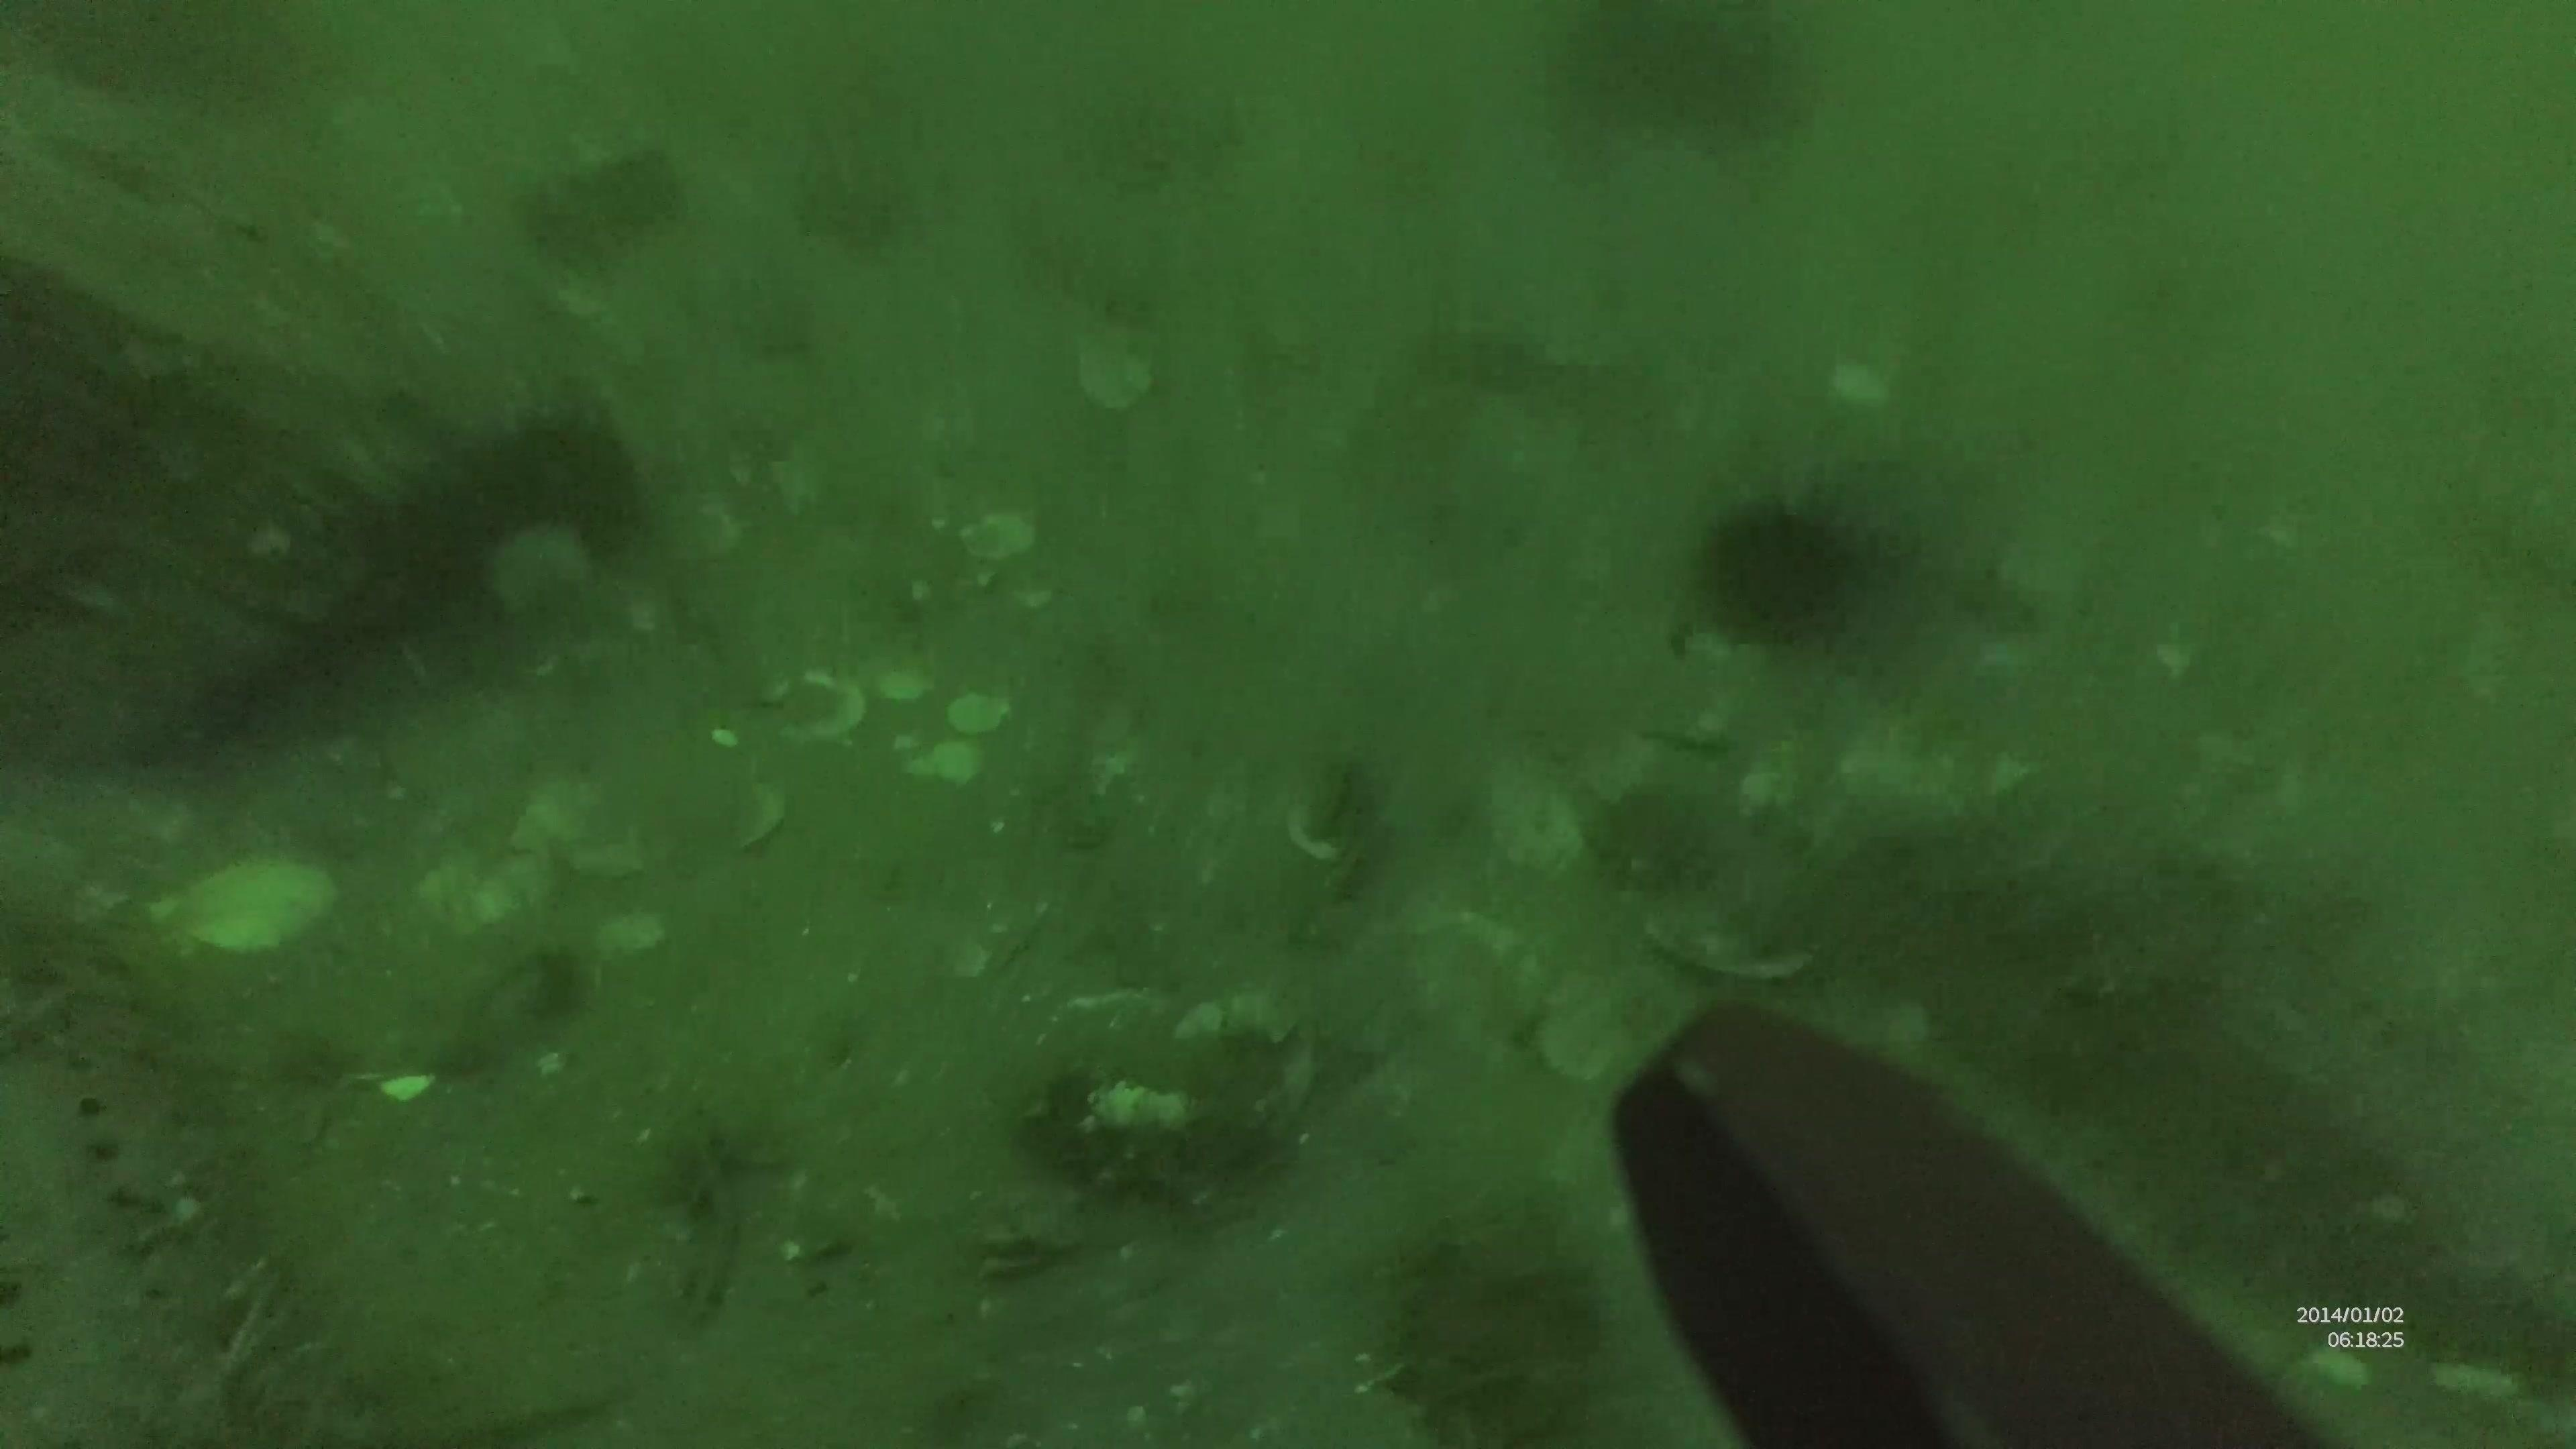echinus: (1691, 483, 1877, 651)
